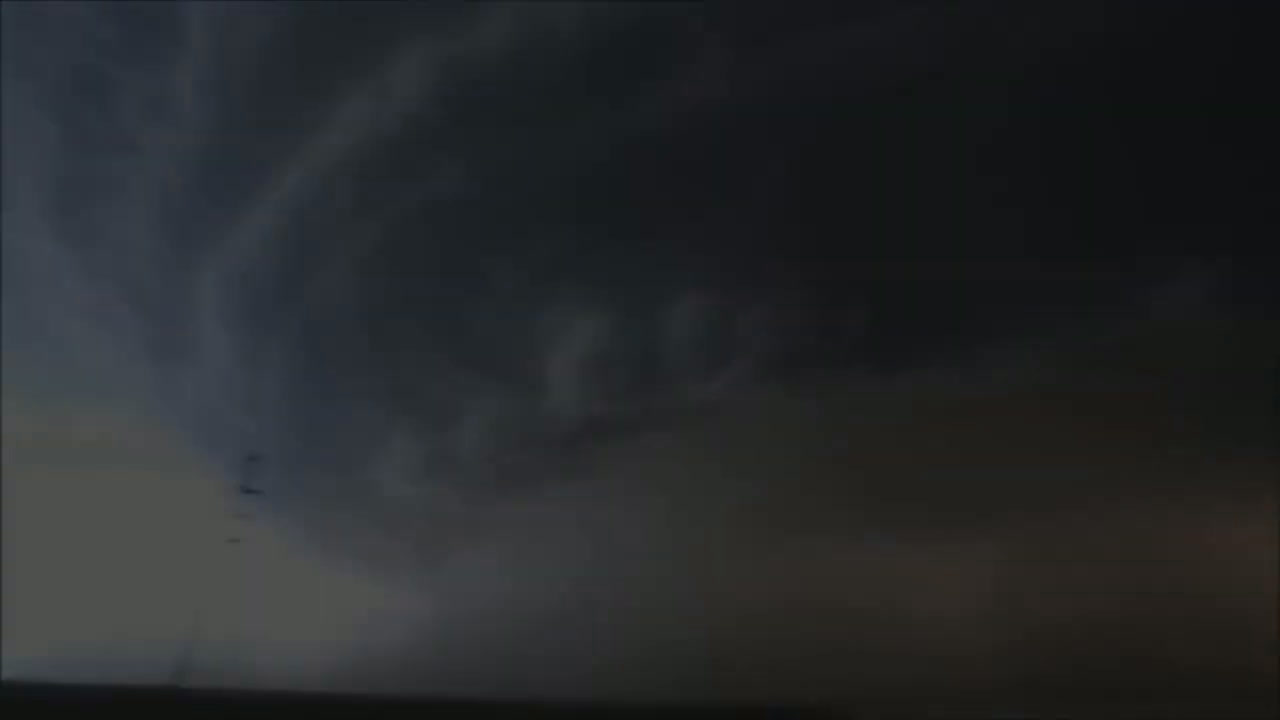RFD: (428, 450, 1273, 695)
mesocyclone: (1, 0, 1275, 565)
striations: (30, 2, 447, 473)
wall cloud: (371, 288, 1208, 511)
